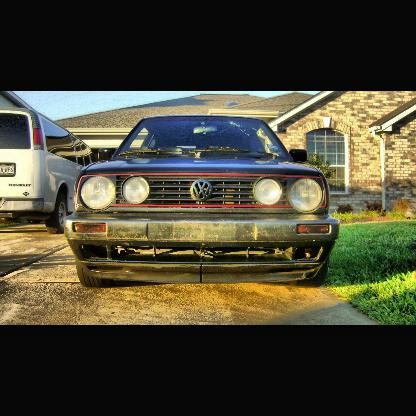Volkswagen Golf Hatchback 1991: (65, 116, 341, 289)
